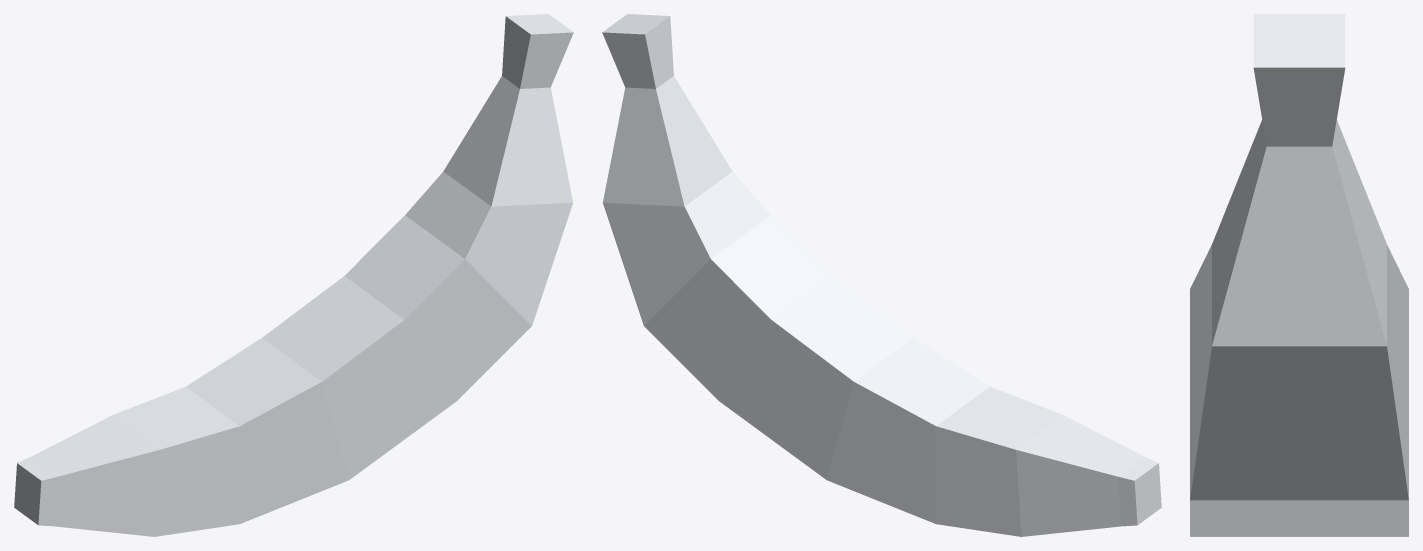
Rendered from fgr_fur_banana.fbx.
3 renders of one model, left to right at view 1: azimuth 30°, elevation 25°; view 2: azimuth 150°, elevation 25°; view 3: azimuth 270°, elevation 25°, orthographic. The views are drawn at different scales.
Parts seen in each view (by area): view 1: fgr_fur_banana; view 2: fgr_fur_banana; view 3: fgr_fur_banana.
Boxes of the visible parts, x1=… form: fgr_fur_banana: x1=14, y1=14, x2=573, y2=536; fgr_fur_banana: x1=602, y1=14, x2=1161, y2=536; fgr_fur_banana: x1=1190, y1=14, x2=1408, y2=536.
Bounding box in the file's own units: 3093 × 2235 × 602.
1 material, 1 textured.
